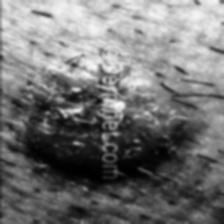Potentially Malignant Skin Tumors: (20, 54, 196, 178)
